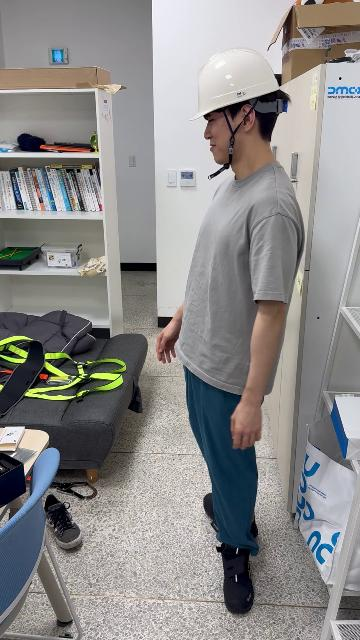helmet_worn: (191, 48, 282, 121)
shoe_not_worn: (43, 493, 82, 549)
shoe_worn: (218, 543, 255, 613)
vest_not_worn: (180, 171, 298, 404)
vest_worn: (0, 332, 128, 403)
